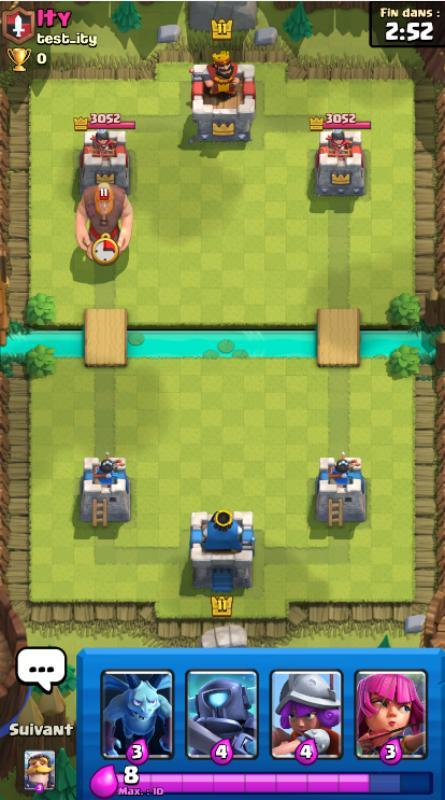geant: (74, 181, 133, 262), (91, 232, 120, 267)
